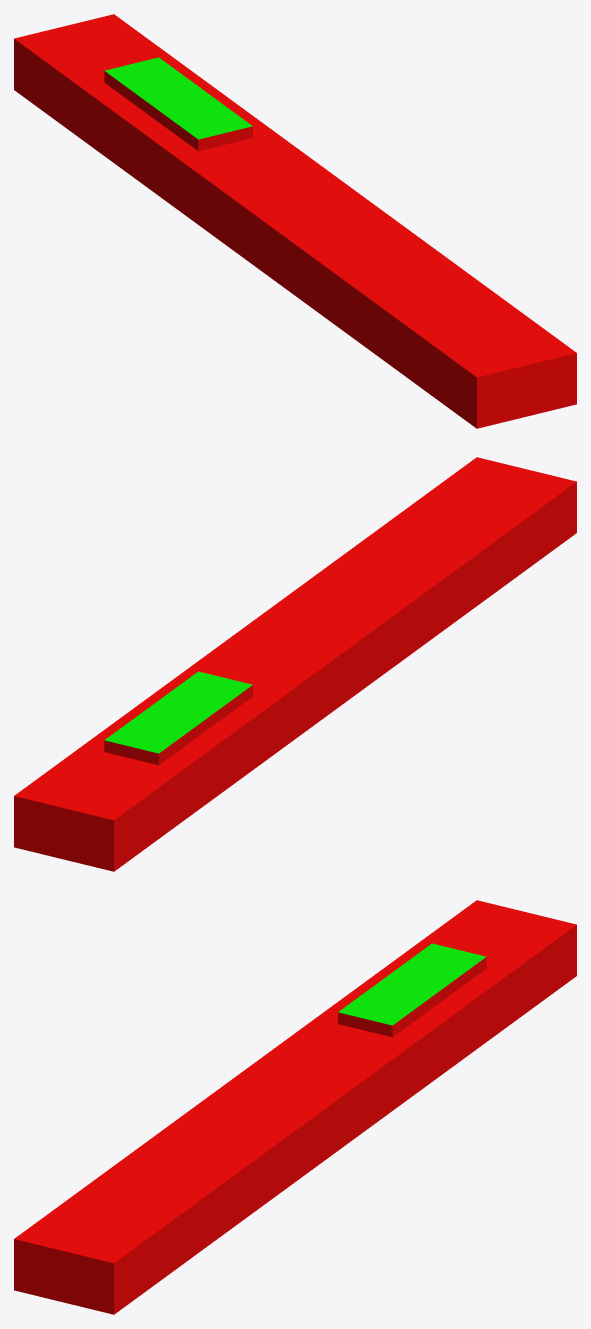
Rendered from labeled.obj.
3 renders of one model, top to bottom at view 1: azimuth 30°, elevation 25°; view 2: azimuth 150°, elevation 25°; view 3: azimuth 330°, elevation 25°, orthographic.
Bounding box in the file's own units: 0.0181 × 0.0109 × 0.1453.
